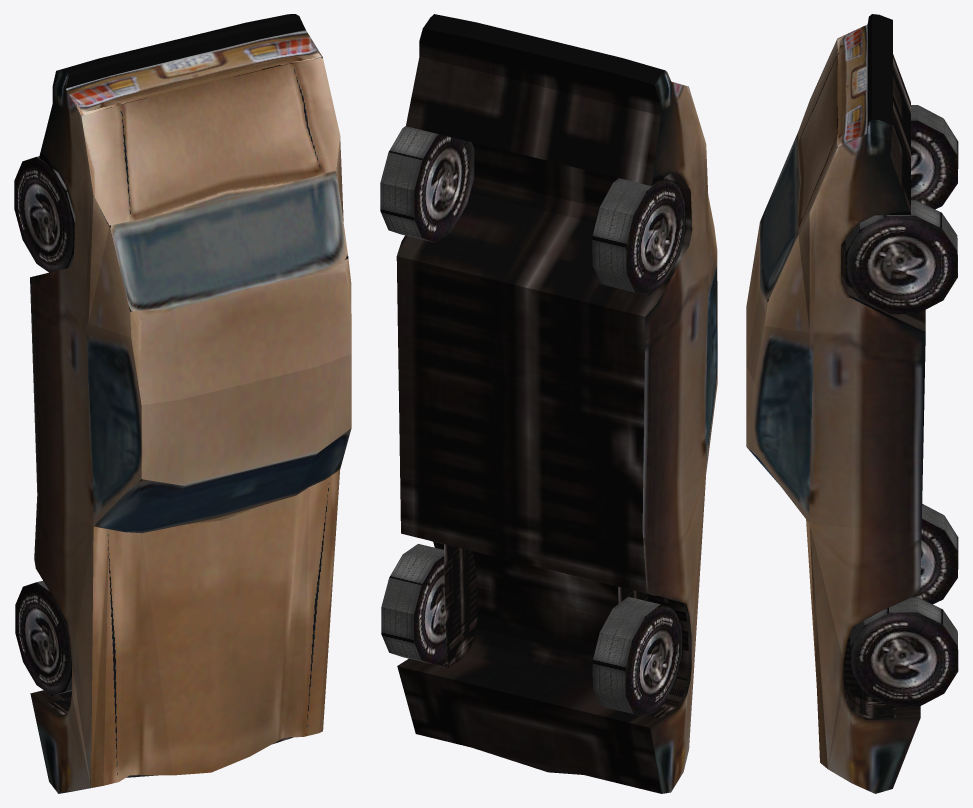
The model's file is carpack_sport_wtf.obj.
The picture shows the model from 3 angles, left to right: view 1: azimuth 30°, elevation 25°; view 2: azimuth 150°, elevation 25°; view 3: azimuth 270°, elevation 25°; orthographic projection. The views are drawn at different scales.
Parts seen in each view (by area): view 1: group2; view 2: group2; view 3: group2.
Boxes of the visible parts, bbox=[...] form: group2: bbox=[14, 14, 351, 793]; group2: bbox=[380, 14, 717, 793]; group2: bbox=[746, 14, 958, 793].
Bounding box in the file's own units: 242 × 660 × 186.
